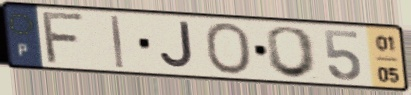5: (322, 27, 364, 83)
F: (41, 11, 89, 66)
I: (108, 13, 126, 70)
J: (158, 19, 197, 72)
O: (264, 25, 321, 80), (202, 20, 254, 76)
